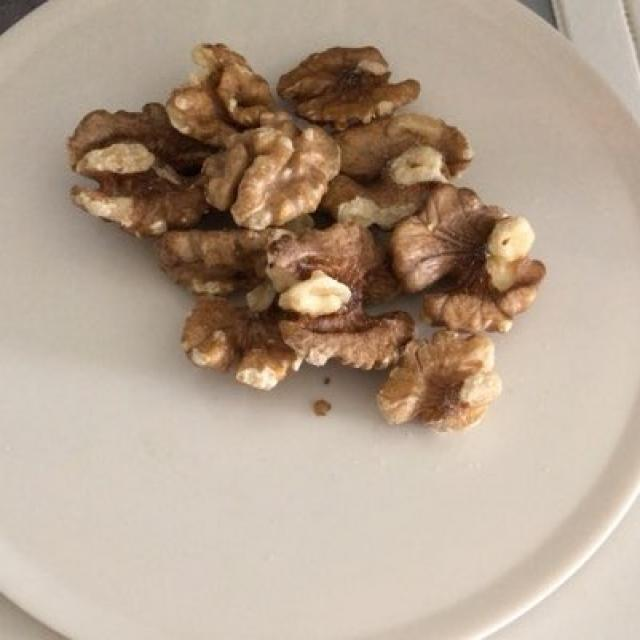walnut: (81, 47, 534, 425)
